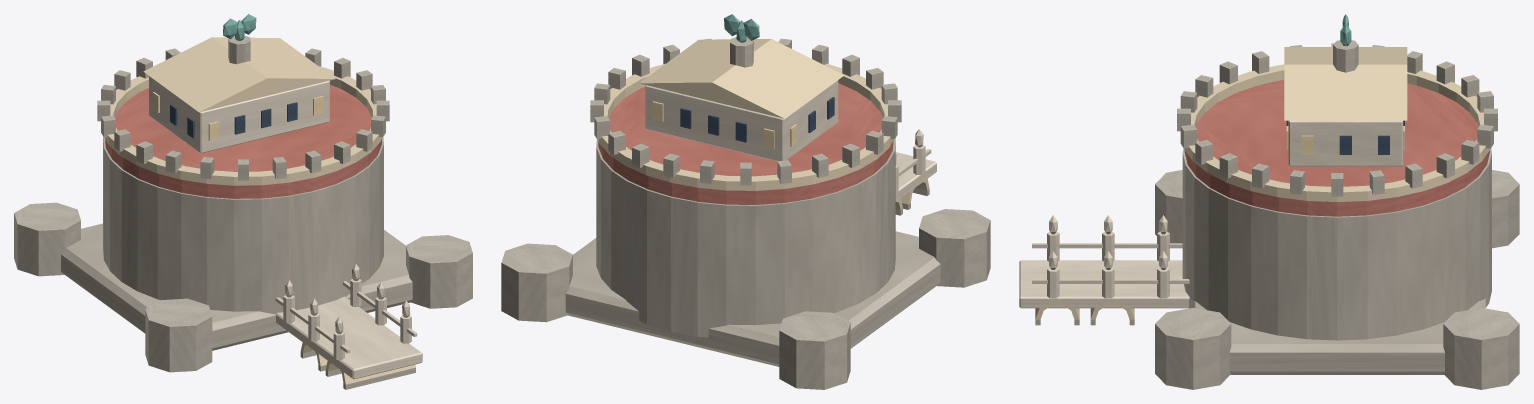
File: castel-sant-angelo.glb
3 views of the same model, side by side, from view 1: azimuth 30°, elevation 25°; view 2: azimuth 150°, elevation 25°; view 3: azimuth 270°, elevation 25° (orthographic). The views are drawn at different scales.
Visible parts, largest first — view 1: castel-sant-angelo; view 2: castel-sant-angelo; view 3: castel-sant-angelo.
Boxes of the visible parts, <box> form: castel-sant-angelo: <box>14,14,472,389</box>; castel-sant-angelo: <box>501,14,990,389</box>; castel-sant-angelo: <box>1019,14,1519,389</box>.
Bounding box in the file's own units: 9.6 × 7.49 × 11.8.
Materials: 1 (1 with a texture image).
